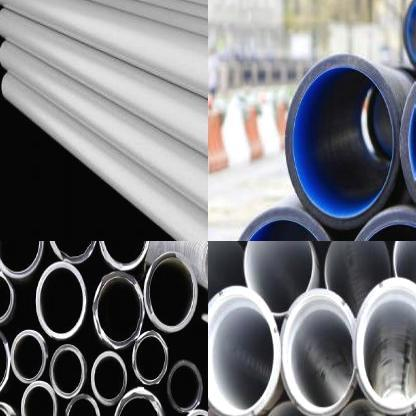pipe: (285, 54, 398, 228), (280, 289, 355, 416), (208, 285, 279, 416), (355, 279, 416, 409), (243, 241, 314, 315), (325, 241, 393, 318), (144, 252, 198, 332), (226, 206, 340, 241), (92, 272, 144, 348), (36, 262, 86, 338), (208, 241, 246, 312), (92, 350, 127, 406), (132, 330, 168, 384), (50, 344, 86, 398), (11, 331, 46, 383), (167, 361, 202, 412), (0, 241, 43, 279), (393, 241, 416, 309), (113, 388, 167, 416), (99, 241, 151, 270), (21, 381, 56, 416), (47, 241, 98, 262), (65, 394, 100, 416), (0, 324, 10, 399), (0, 271, 14, 323)
